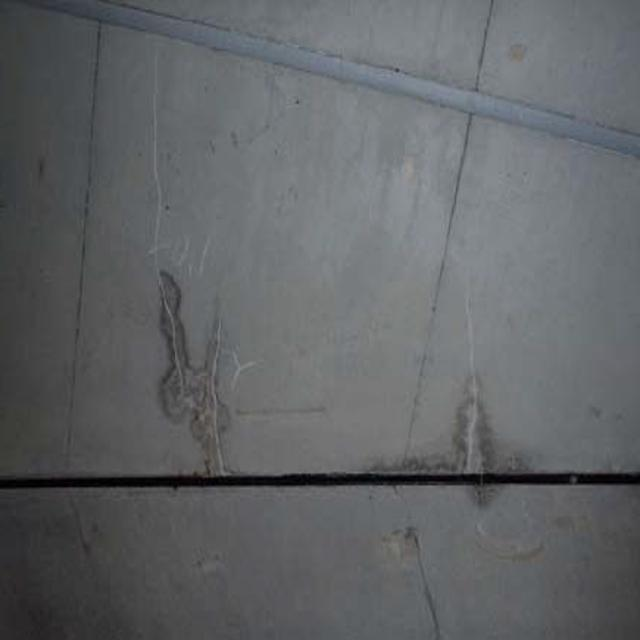freelime: (368, 388, 548, 486), (150, 266, 229, 478)
